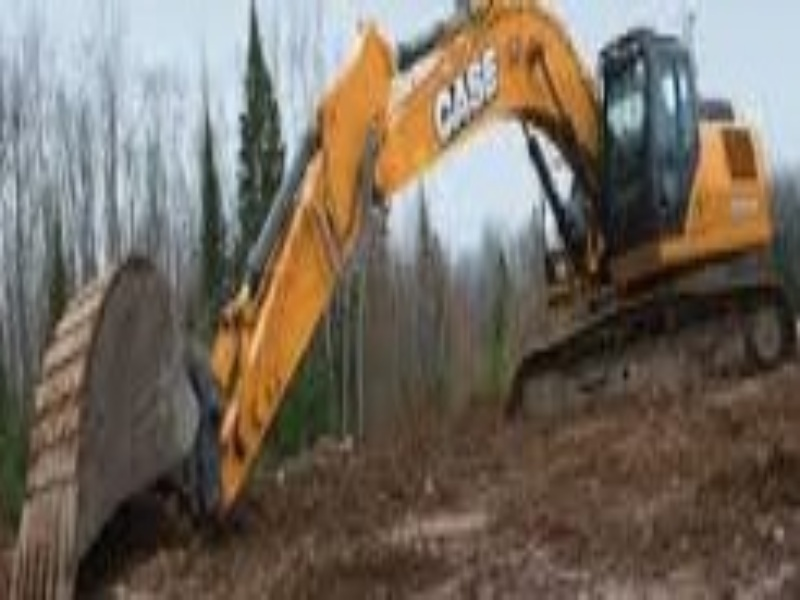wajueji: (371, 4, 788, 413)
